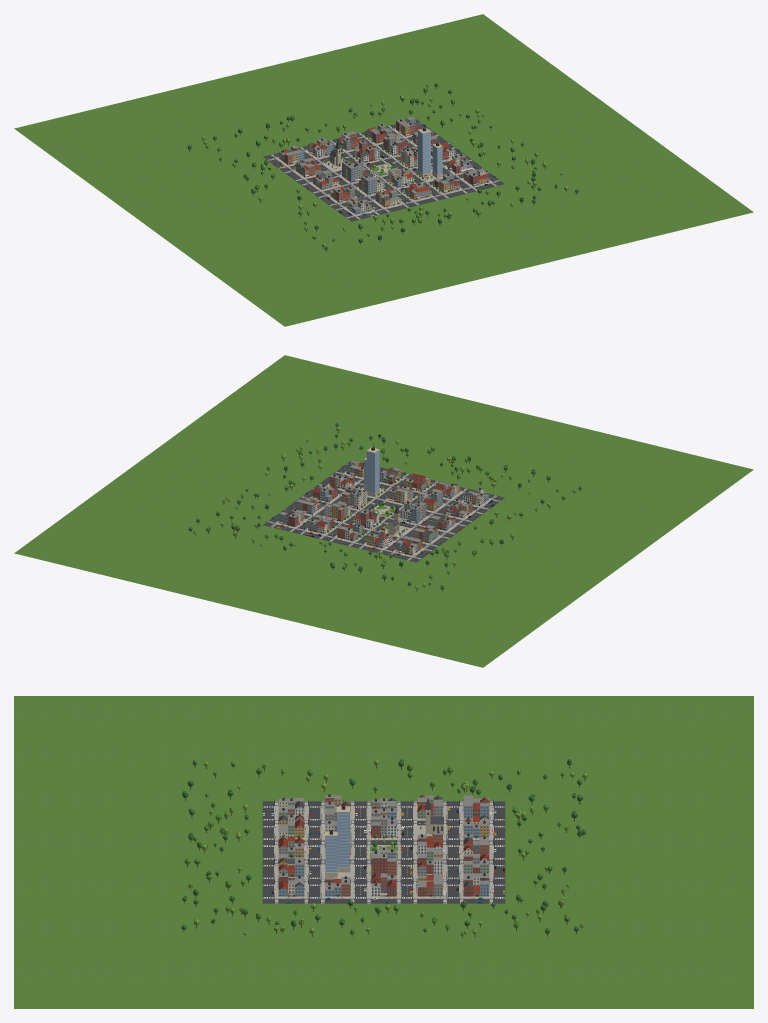
The model's file is ministad.glb.
3 views of the same model, one above another, from view 1: azimuth 30°, elevation 25°; view 2: azimuth 150°, elevation 25°; view 3: azimuth 270°, elevation 25° (orthographic). The views are drawn at different scales.
Parts seen in each view (by area): view 1: Weiland, Straten, Wegmarkering, Toren_Noord; view 2: Weiland, Straten, Toren_Noord, Wegmarkering; view 3: Weiland, Straten, Wegmarkering, Toren_Noord, Toren_Zuid.
Boxes of the visible parts, x1,y1,x2,y2 form: Weiland: (14,14,753,326); Straten: (263,119,504,221); Wegmarkering: (268,122,499,219); Toren_Noord: (417,124,431,177); Weiland: (14,355,753,667); Straten: (263,460,504,562); Toren_Noord: (366,443,379,496); Wegmarkering: (268,462,499,560); Weiland: (14,696,753,1008); Straten: (262,801,505,903); Wegmarkering: (263,801,504,903); Toren_Noord: (336,800,350,872); Toren_Zuid: (325,830,337,877).
Size of the model in its own units: 640 by 66.67 by 640.
Materials: 113 (27 with a texture image).
